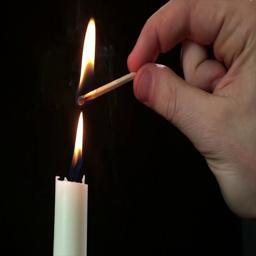fire: (80, 18, 97, 86), (74, 111, 84, 164)
